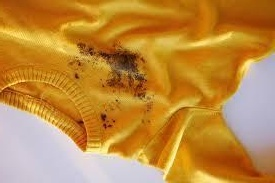earth: (105, 52, 146, 93), (102, 113, 114, 130), (77, 43, 95, 54), (73, 59, 81, 79)
